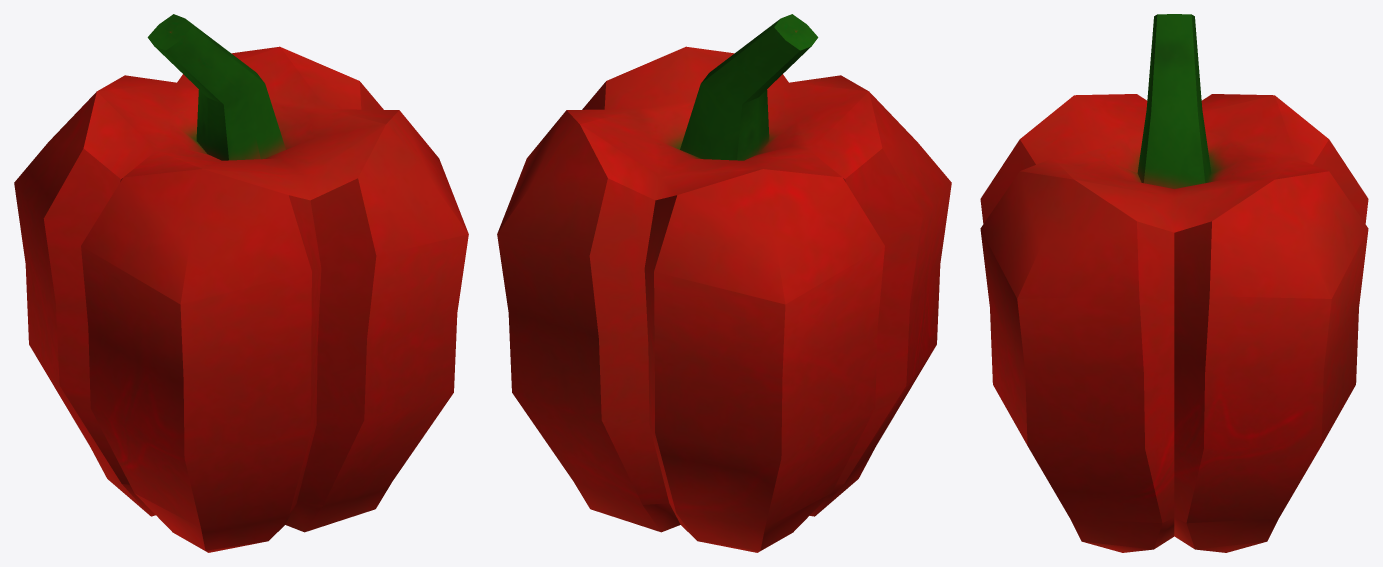
File: Capsicum.fbx
The picture shows the model from 3 angles, left to right: view 1: azimuth 30°, elevation 25°; view 2: azimuth 150°, elevation 25°; view 3: azimuth 270°, elevation 25°; orthographic projection. The views are drawn at different scales.
Visible parts, largest first — view 1: Capsicum; view 2: Capsicum; view 3: Capsicum.
Boxes of the visible parts, <box> form: Capsicum: <box>14,14,468,552</box>; Capsicum: <box>497,14,951,552</box>; Capsicum: <box>980,14,1368,552</box>.
Bounding box in the file's own units: 0.1697 × 0.2324 × 0.1684.
